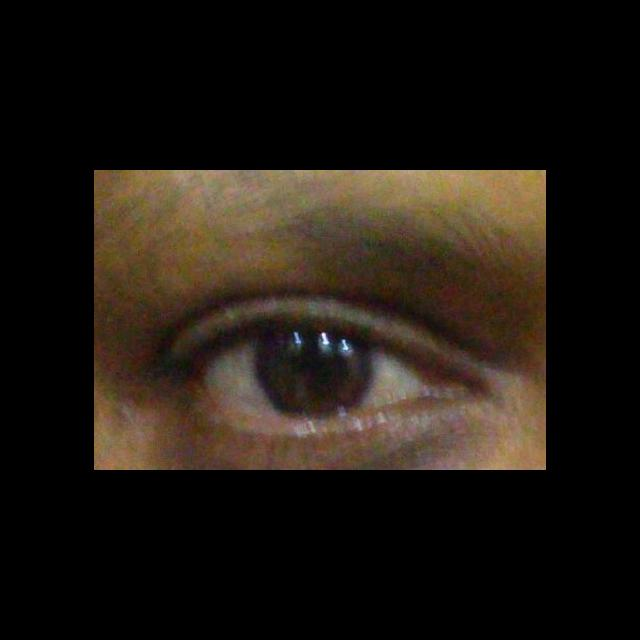eye: (207, 327, 421, 420)
iris: (254, 327, 369, 414)
